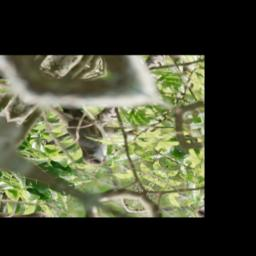Cuckoo: (22, 95, 137, 174)
